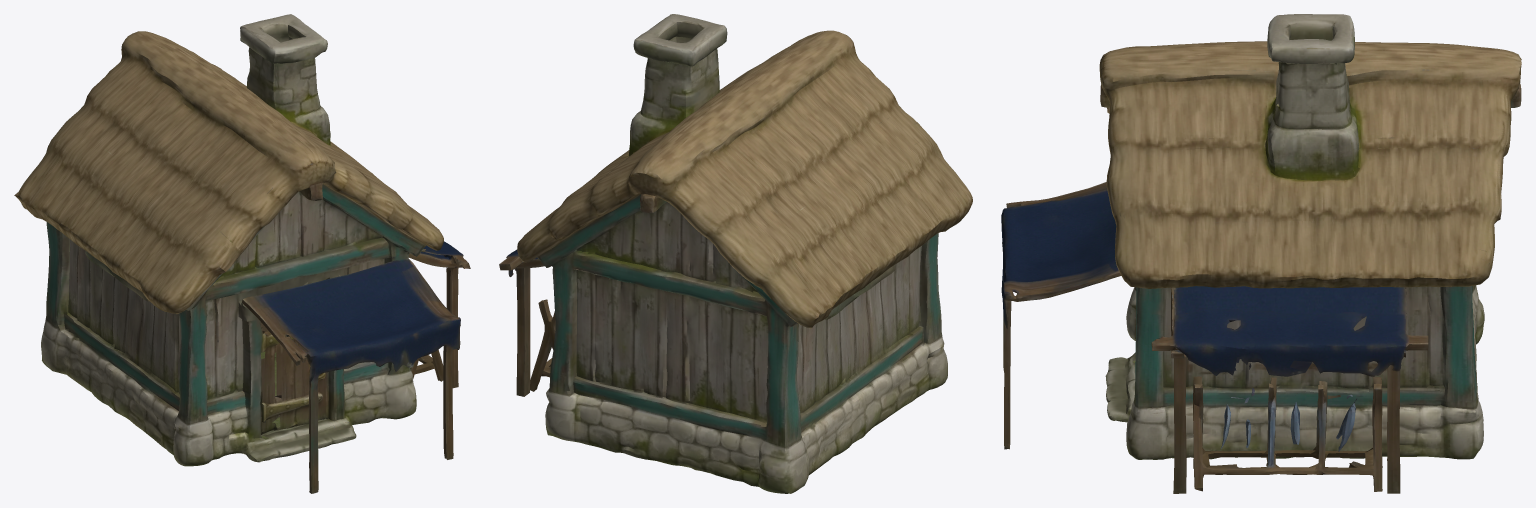
Rendered from tidewake_smokehouse.glb.
3 renders of one model, left to right at view 1: azimuth 30°, elevation 25°; view 2: azimuth 150°, elevation 25°; view 3: azimuth 270°, elevation 25°, orthographic. The views are drawn at different scales.
Parts seen in each view (by area): view 1: Mesh_0; view 2: Mesh_0; view 3: Mesh_0.
Part boxes in pixels (x1=…): Mesh_0: x1=14, y1=14, x2=470, y2=493; Mesh_0: x1=499, y1=14, x2=972, y2=493; Mesh_0: x1=1001, y1=14, x2=1521, y2=493.
Size of the model in its own units: 1.59 by 1.61 by 1.9.
1 material, 1 textured.
